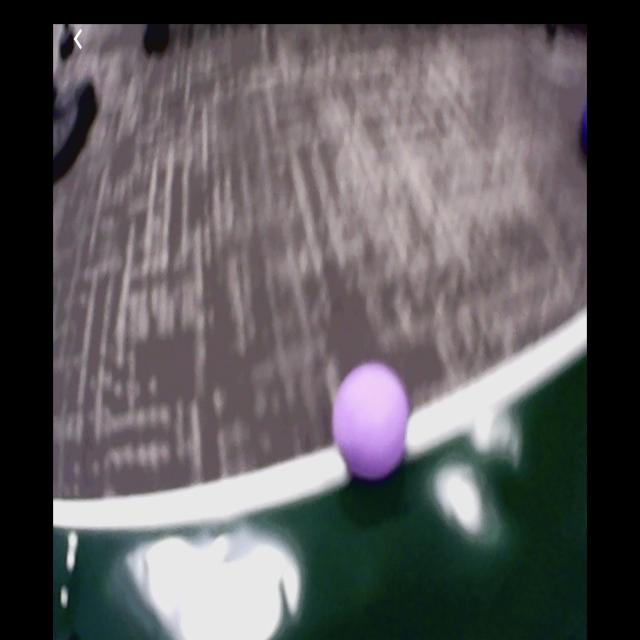ball: (335, 360, 410, 482), (580, 112, 589, 160)
